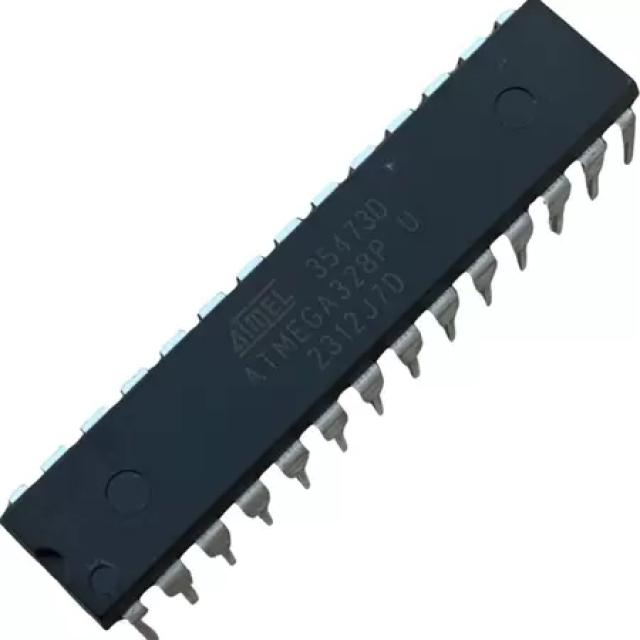atmega: (0, 0, 639, 639)
